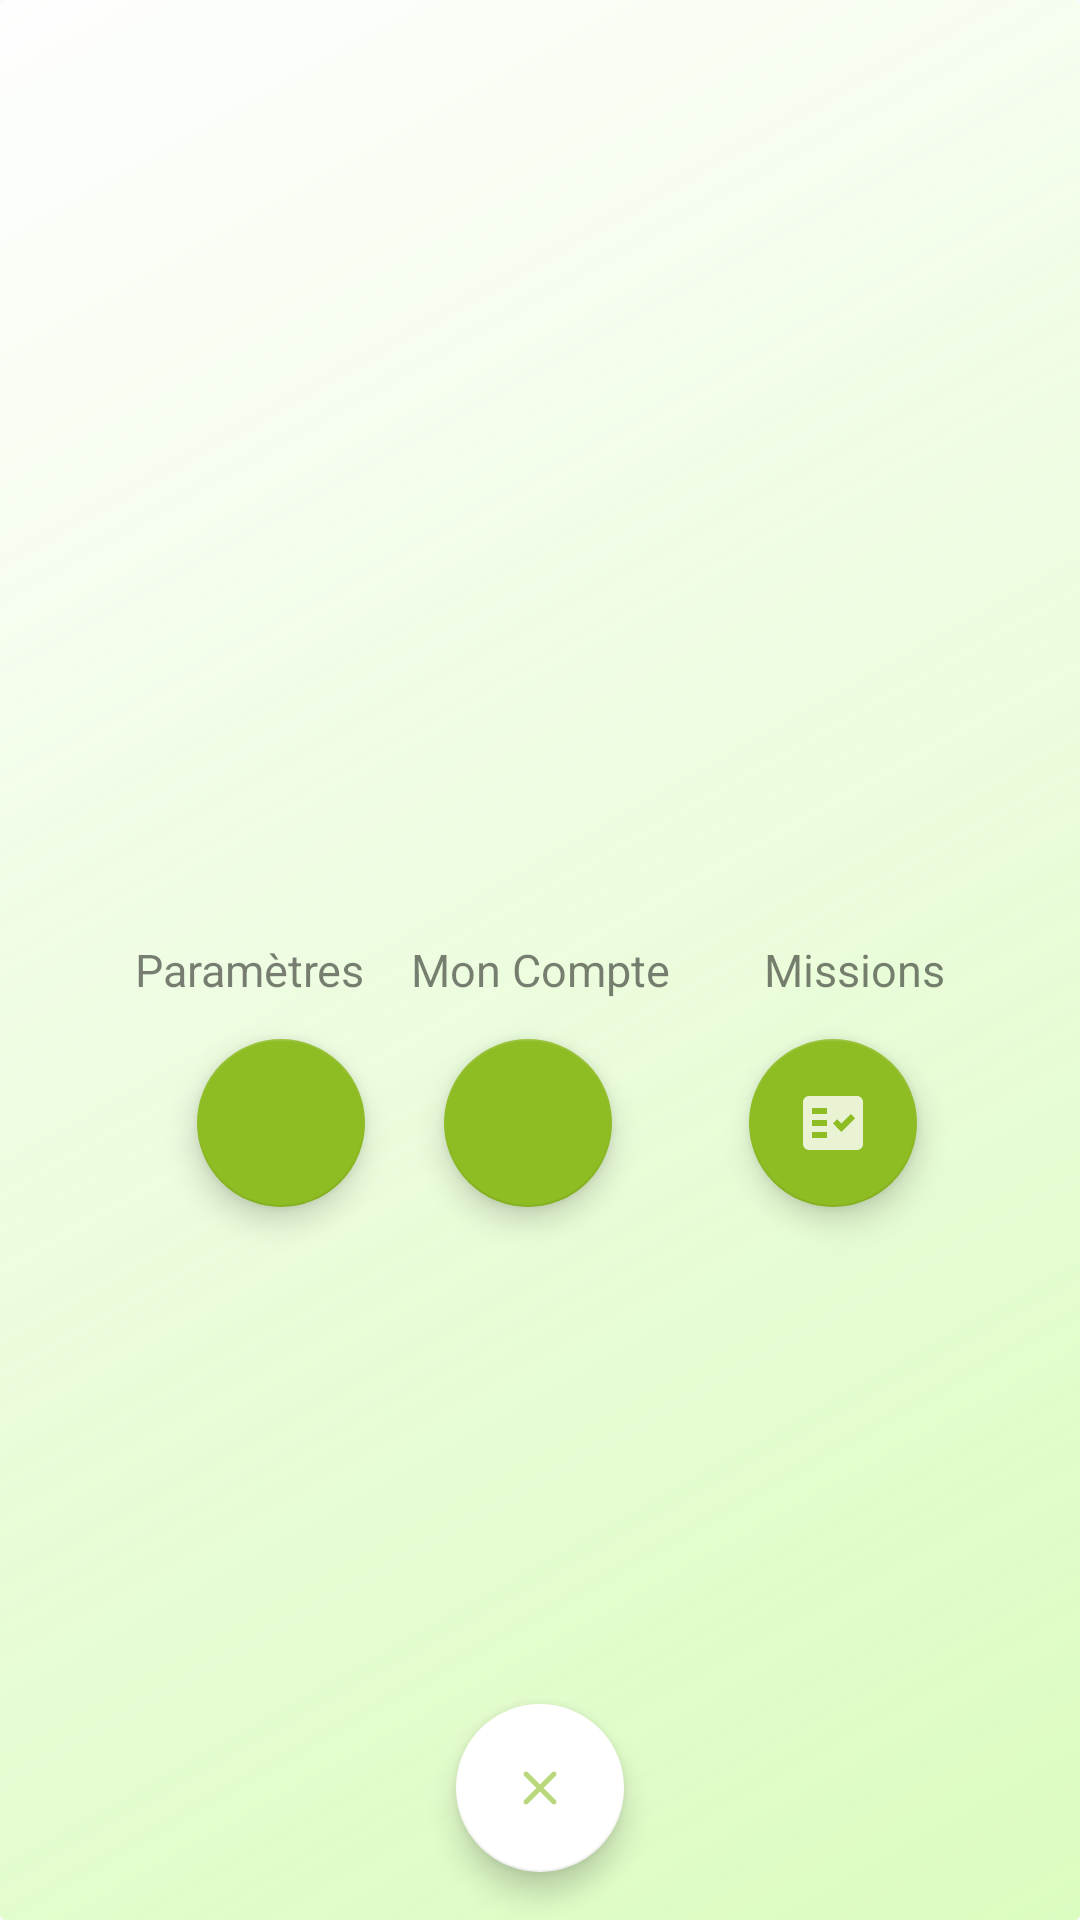

Named icons in this screenshot (1080 × 1920) and their centers, (x=x, y=y):
check list: (x=833, y=1123)
close: (x=540, y=1788)
